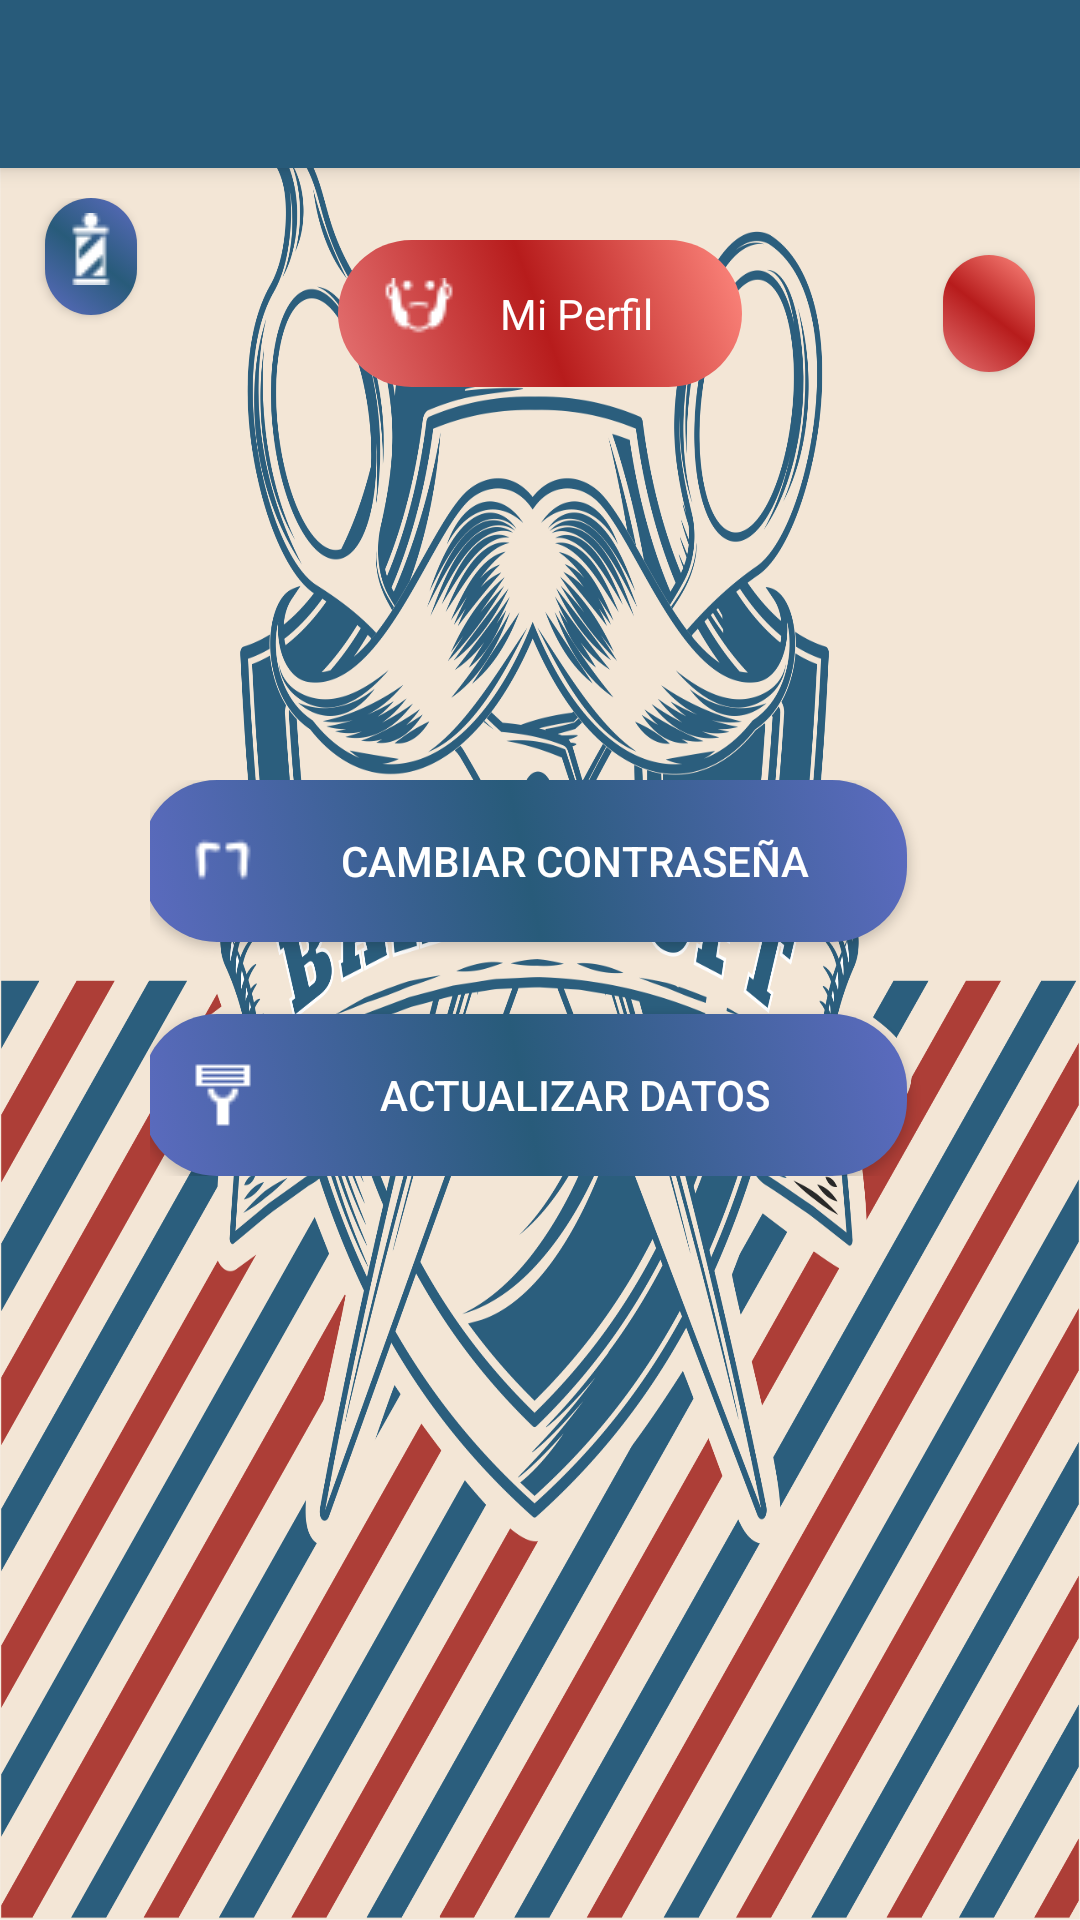

Named icons in this screenshot (1080*1920) and their bounding boxes, (x1, y1, x2, y2):
btnazul: (45, 198, 137, 315)
